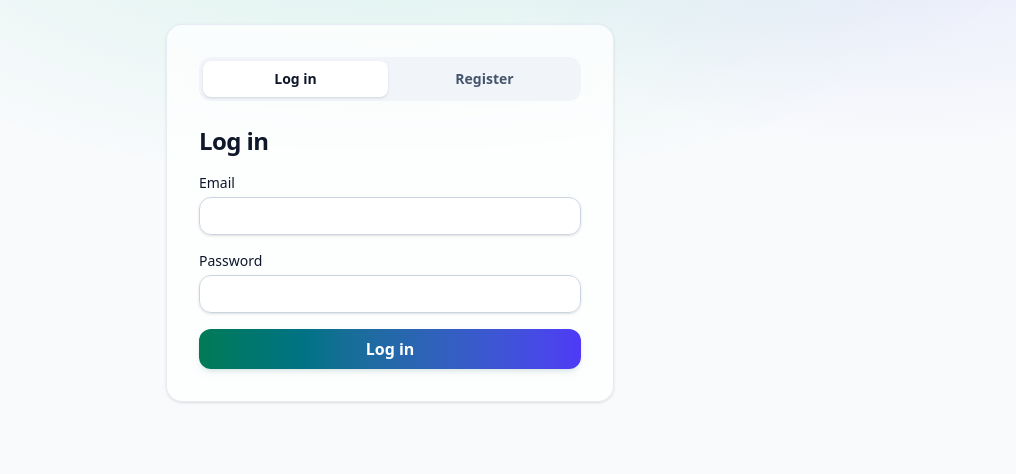
Test: login shows the API error message on failure
In the field labelled "Email": (390, 216) [199,197,581,235], type "a@b.c"
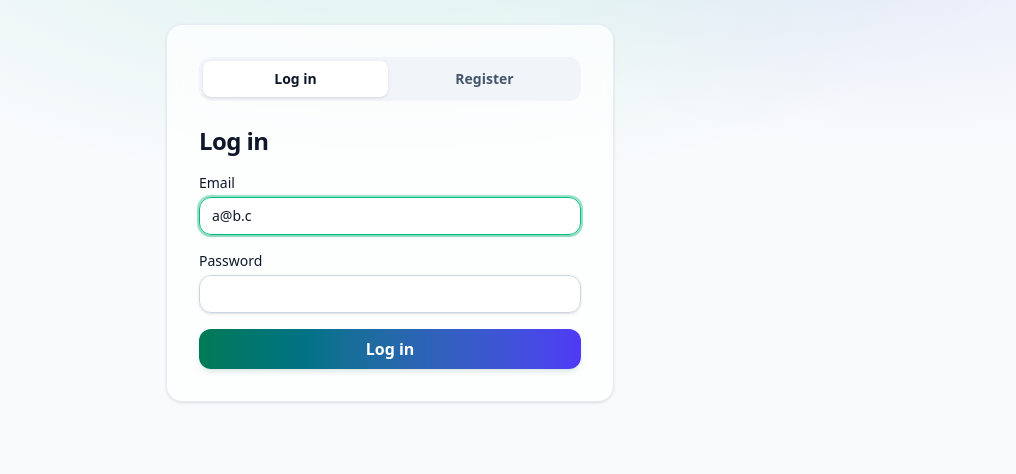
In the password field labelled "Password": (390, 294) [199,275,581,313], type "x"
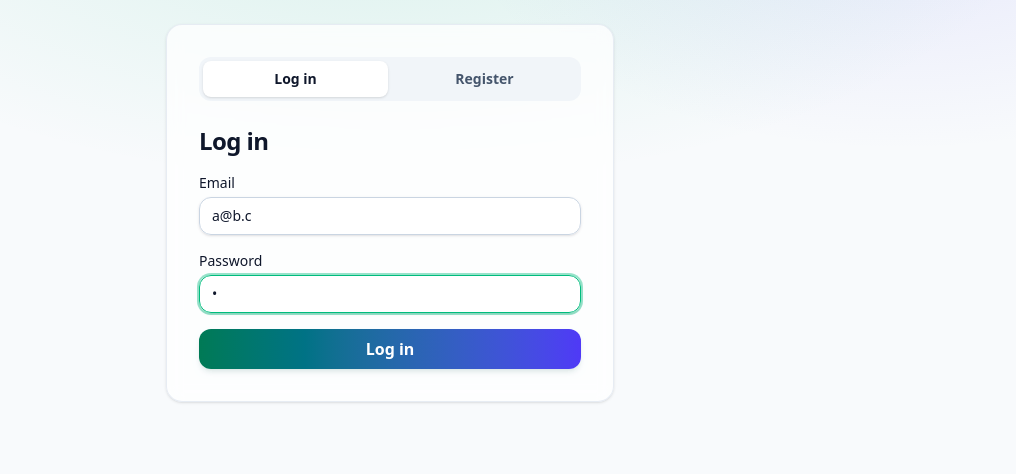
Click the button "Log in": (390, 349) [199,329,581,369]
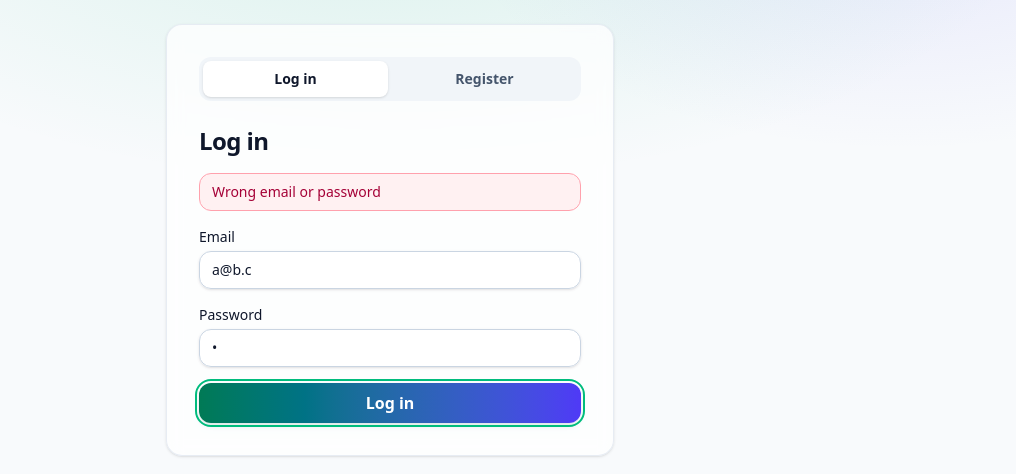
Result: the message reads "Wrong email or password" at [212,182,381,201]
